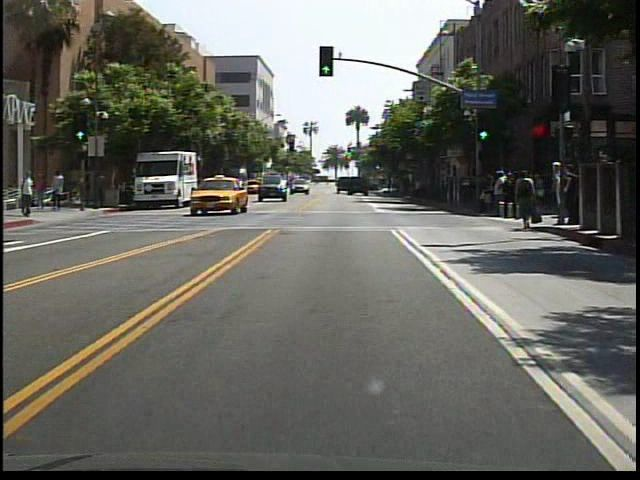person: (512, 167, 539, 232), (21, 168, 40, 220), (51, 167, 70, 214), (37, 171, 53, 213), (96, 170, 113, 209), (83, 170, 96, 207)
